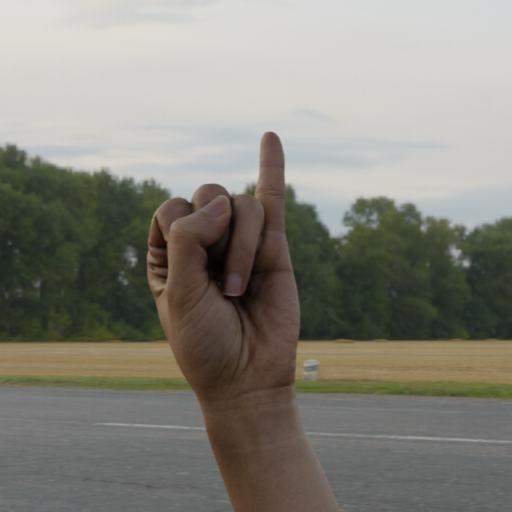I: (113, 118, 309, 512)
